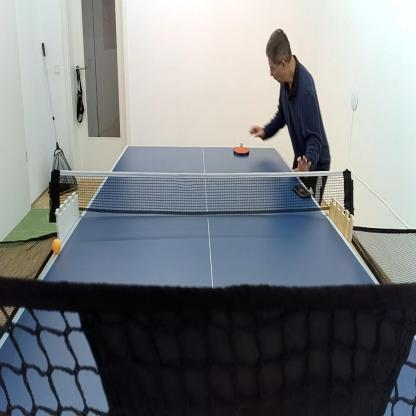Ball: (51, 237, 62, 254)
